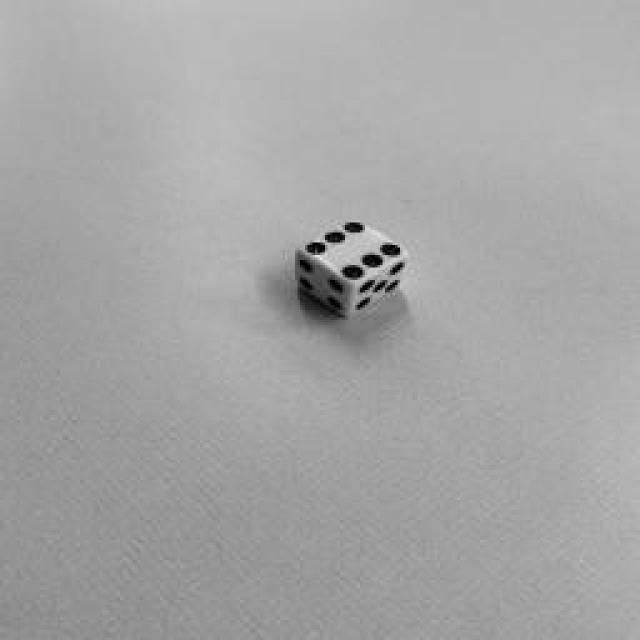dice_6: (300, 220, 408, 285)
